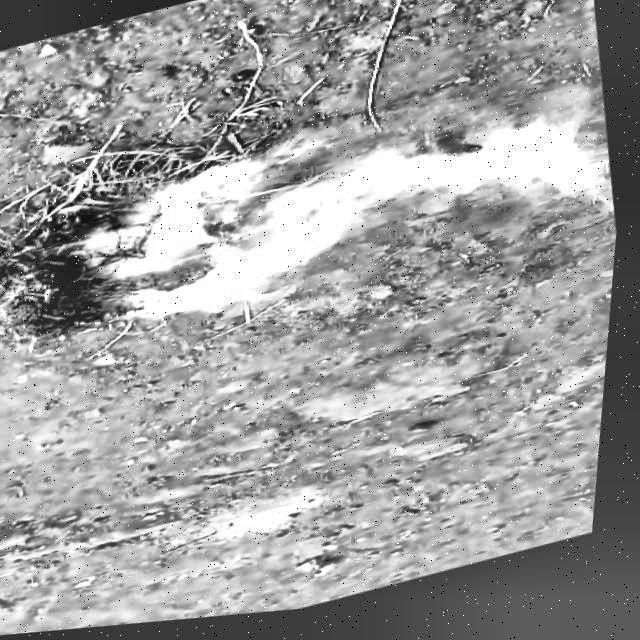Smoke: (55, 64, 629, 356)
